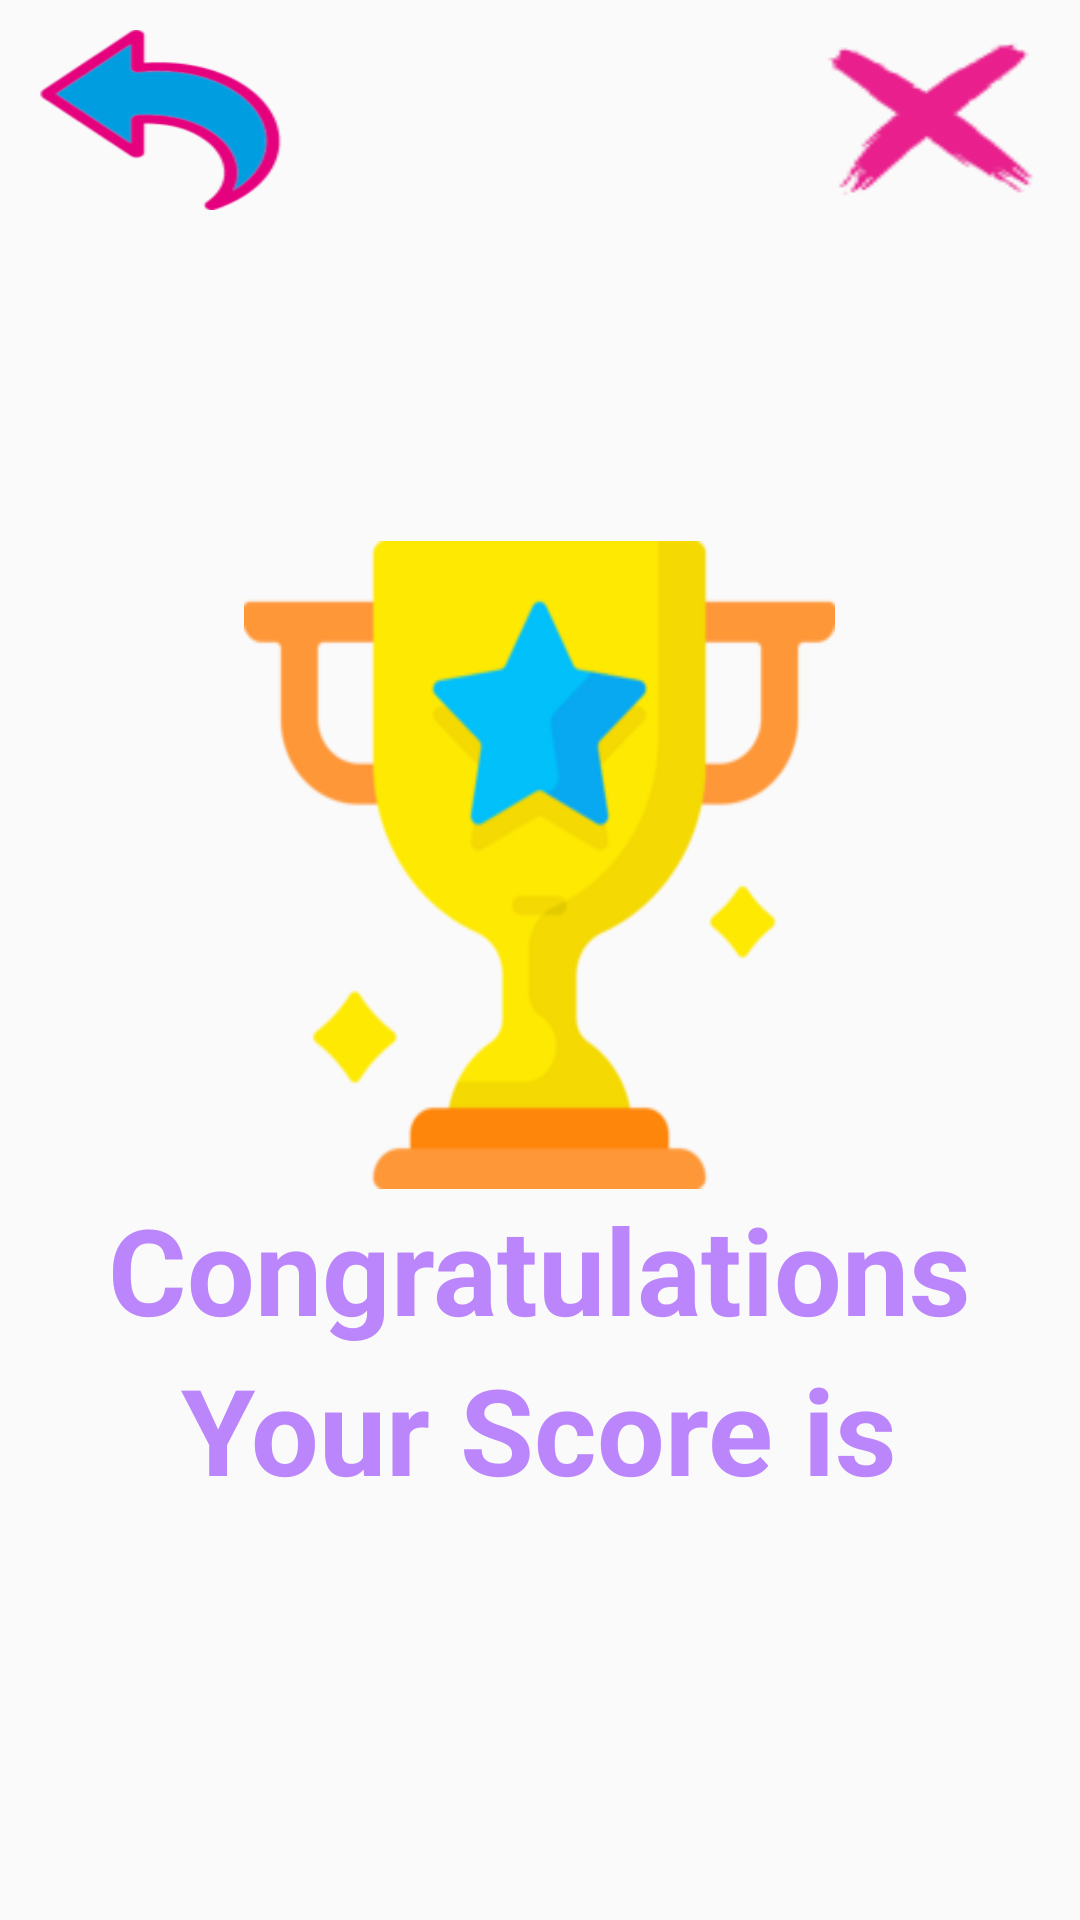

Locate icon controls on the screen. Image size 1080*1920, boxes as (x1, y1, x2, y2).
exit: (829, 44, 1032, 194)
restart: (40, 30, 281, 210)
